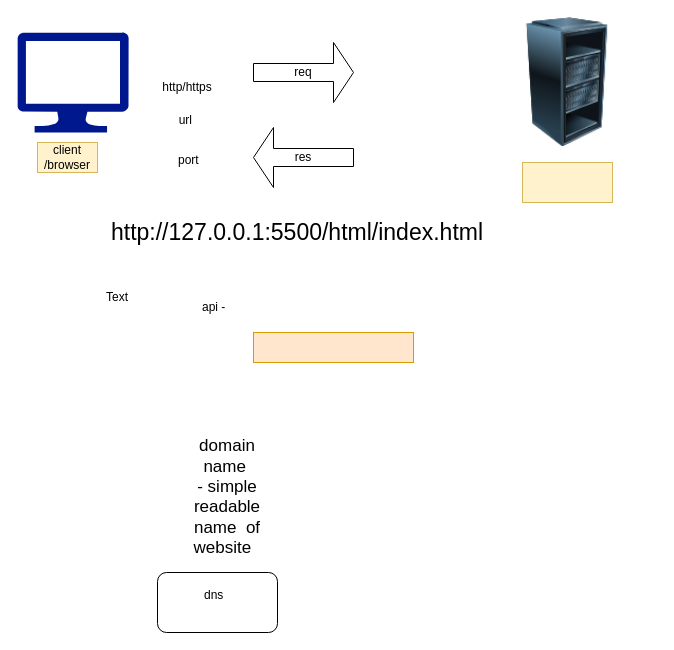
Some shapes in this 674 by 650 pixel diagram are drawn without their labels. The shapes that lost their labels are listed below. From the top down, each one's centre as x and y in pixels, then its label:
At [567,182]: "server".
At [333,347]: "request / response cycle".
